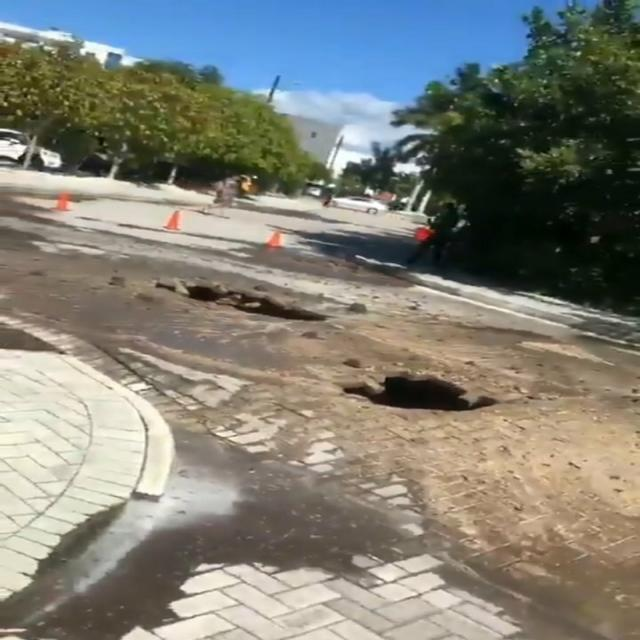Pothole: (104, 259, 513, 437)
